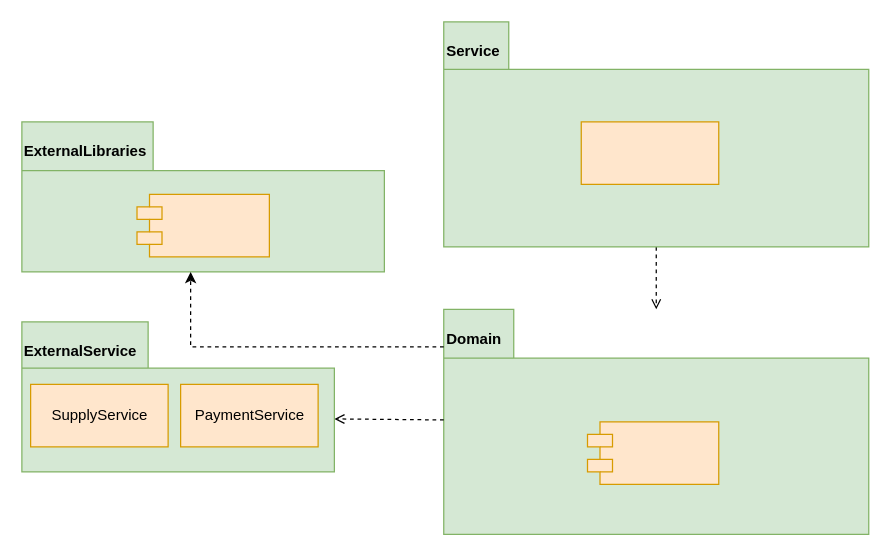
The diagram is 891 pixels wide and 556 high, and some of its shapes have lost their labels. The shapes that lost their labels are listed below. From the top down, each one's centre as x and y in pixels, then its label:
At point (649, 152): "iMarket".
At point (202, 225): "Logger".
At point (652, 452): "Market".
